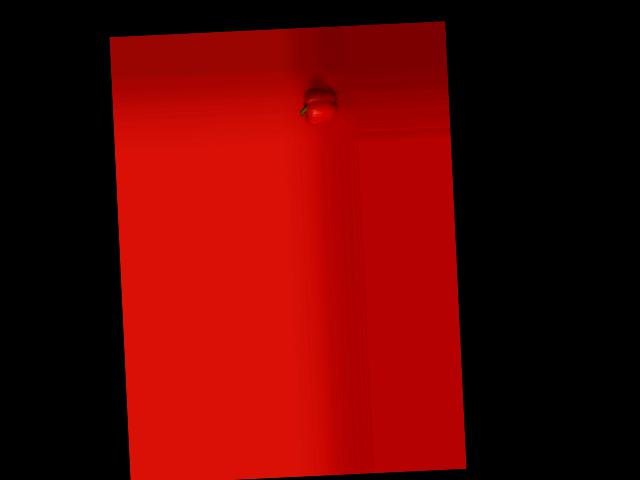bell_pepper: (297, 85, 341, 124)
